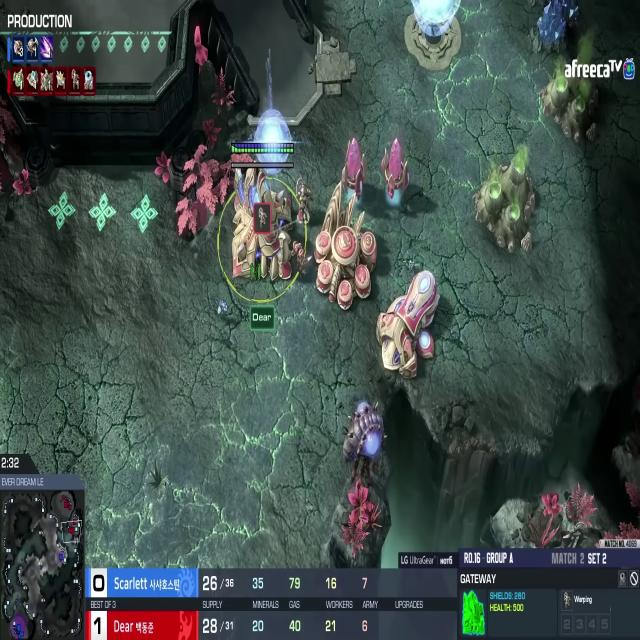adept: (293, 174, 313, 229)
overlord: (335, 382, 391, 491)
zealot: (289, 231, 313, 283)
